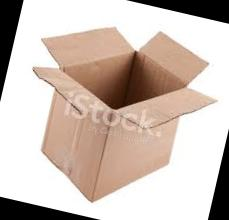Kertas: (32, 27, 213, 200)
